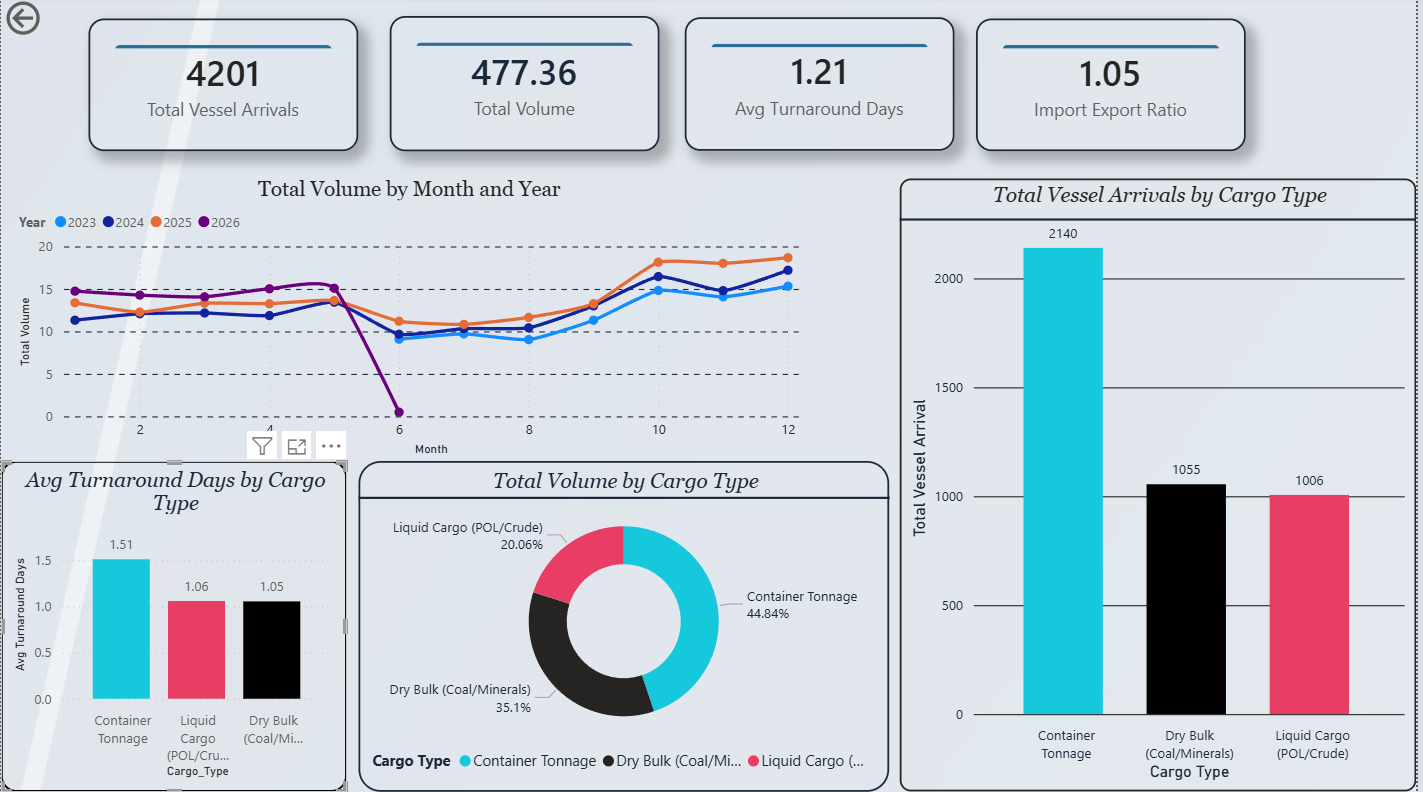

The page's visual inventory and layout, read from the dashboard file:
{"tool":"powerbi","page":{"name":"Strategic Macro Trends","canvas":[1280,720],"ordinal":1},"visuals":[{"type":"actionButton","box":[0,0,100,40],"z":0},{"type":"cardVisual","fields":{"Data":["daily_port_cargo.Total Volume"]},"box":[351.6,18.1,244.2,122.1],"z":1000},{"type":"cardVisual","fields":{"Data":["daily_port_cargo.Total Vessel Arrivals"]},"box":[99.5,20.4,244.2,119.8],"z":2000},{"type":"cardVisual","fields":{"Data":["daily_port_cargo.Avg Turnaround Days"]},"box":[604.9,18.1,244.2,121],"z":3000},{"type":"cardVisual","fields":{"Data":["daily_port_cargo.Import Export Ratio"]},"box":[858.2,18.1,244.2,119.8],"z":4000},{"type":"clusteredColumnChart","title":"Total Vessel Arrivals by Cargo Type","fields":{"Category":["daily_port_cargo.Cargo_Type"],"Y":["daily_port_cargo.Total Vessel Arrivals"]},"box":[780,181.2,485,295],"z":5000},{"type":"lineChart","title":"Total Volume by Month and Year","fields":{"Y":["daily_port_cargo.Total Volume"],"Series":["daily_port_cargo.Year"],"Category":["daily_port_cargo.Full_Month_Name"]},"box":[11.2,163.8,752.5,538.8],"z":6000},{"type":"textbox","box":[797.5,537.5,467.5,165],"z":7000}]}

Visuals, with their boxes in screenshot pixels (x1, y1, x2, y2), scaled from the page's 1280x720 canvas onto the 1423x792 screenshot:
actionButton: locate(0, 0, 111, 44)
cardVisual - daily_port_cargo.Total Volume: locate(391, 20, 662, 154)
cardVisual - daily_port_cargo.Total Vessel Arrivals: locate(111, 22, 382, 154)
cardVisual - daily_port_cargo.Avg Turnaround Days: locate(672, 20, 944, 153)
cardVisual - daily_port_cargo.Import Export Ratio: locate(954, 20, 1226, 152)
"Total Vessel Arrivals by Cargo Type" clusteredColumnChart: locate(867, 199, 1406, 524)
"Total Volume by Month and Year" lineChart: locate(12, 180, 849, 773)
textbox: locate(887, 591, 1406, 773)
